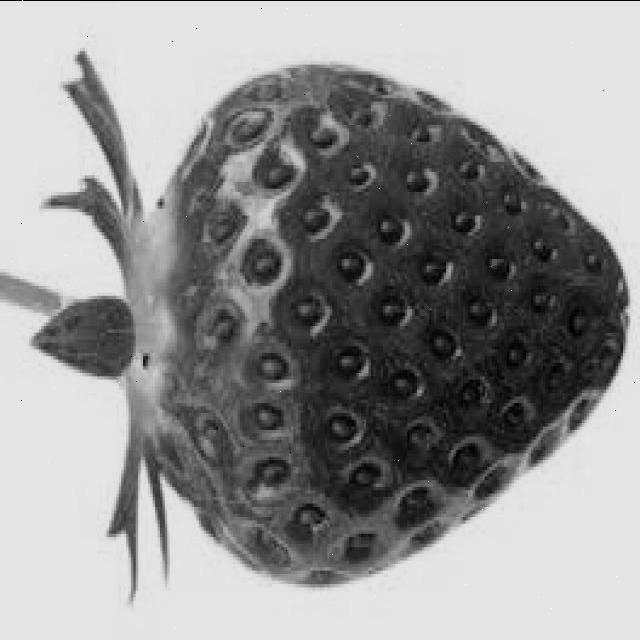ripe: (142, 62, 634, 584)
